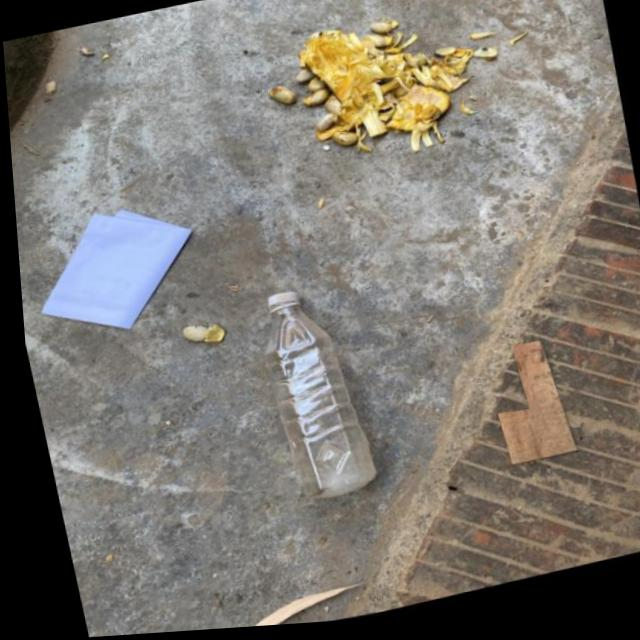fabric: (213, 0, 530, 213), (140, 313, 229, 375)
food: (14, 187, 222, 355)
leaf: (236, 269, 413, 538)
plastic bag: (464, 323, 616, 508)
